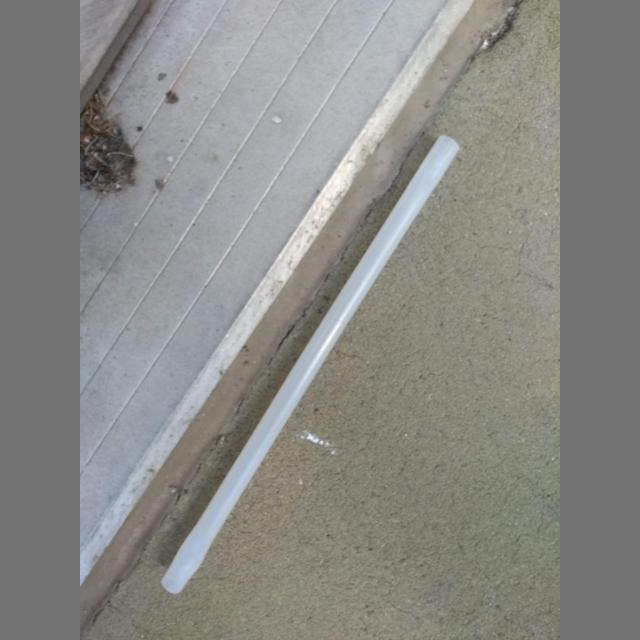litter: (161, 135, 460, 593)
